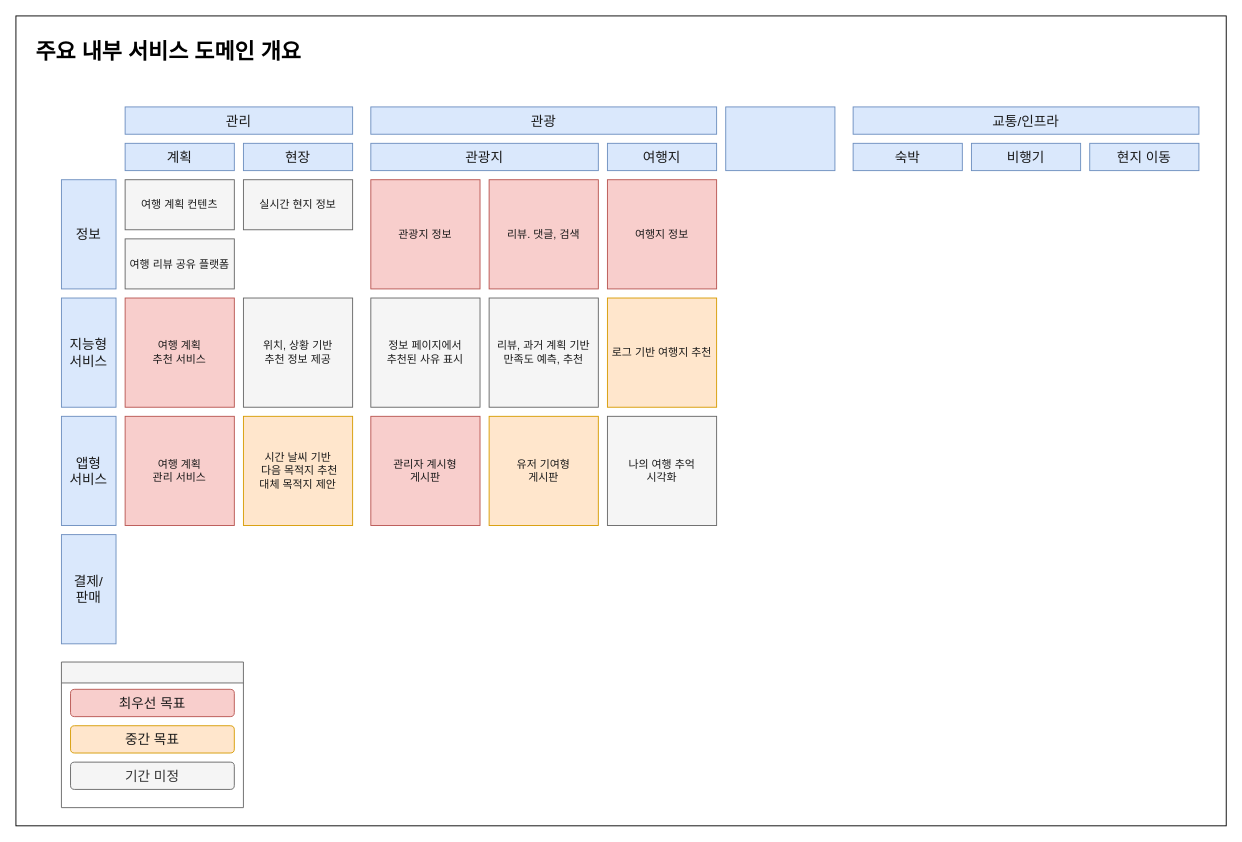
Some shapes in this 1242 by 842 pixel diagram are drawn without their labels. Each missing label, with the box of its shape:
개발 순서: (61, 661, 243, 808)
이벤트: (725, 106, 835, 171)
